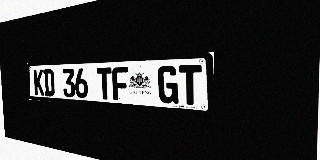3: (62, 68, 75, 98)
6: (74, 68, 88, 98)
D: (43, 69, 55, 96)
F: (112, 67, 129, 101)
G: (158, 65, 178, 104)
K: (33, 69, 44, 96)
T: (179, 65, 202, 106), (97, 67, 112, 100)
